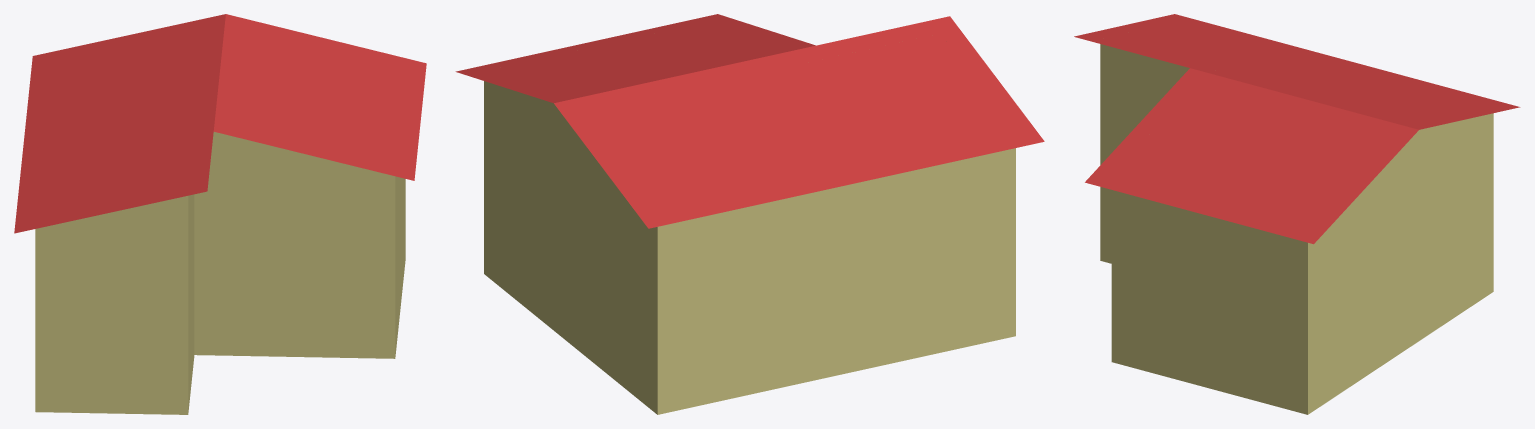
3 renders of one model, left to right at view 1: azimuth 30°, elevation 25°; view 2: azimuth 150°, elevation 25°; view 3: azimuth 270°, elevation 25°, orthographic. The views are drawn at different scales.
Bounding box in the file's own units: 20.86 × 17.12 × 9.57.
